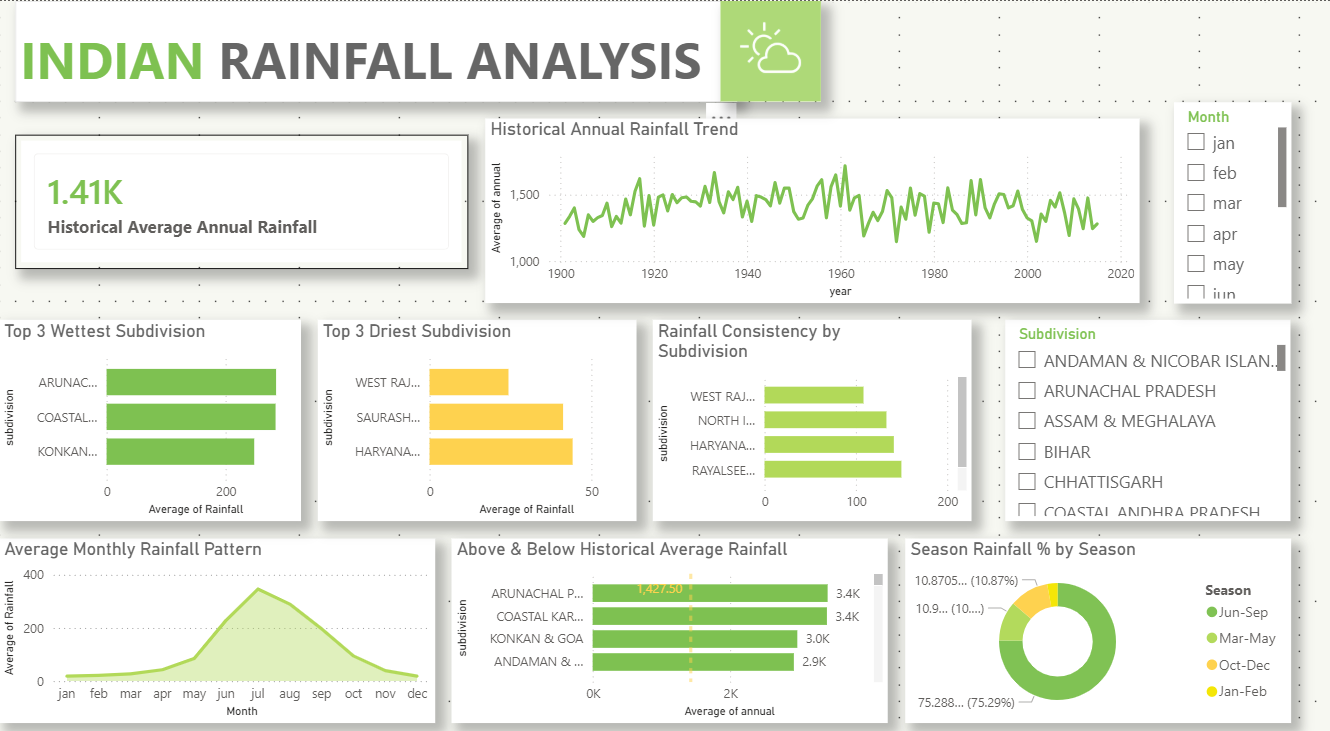

The page's visual inventory and layout, read from the dashboard file:
{"tool":"powerbi","page":{"name":"Page 1","canvas":[1280,720],"ordinal":0},"visuals":[{"type":"lineChart","title":"Average Monthly Rainfall Pattern","fields":{"Category":["Rainfall.Month"],"Y":["Avg(Rainfall.Rainfall)"]},"box":[0,512,416,176],"z":0},{"type":"slicer","fields":{"Values":["Rainfall.subdivision"]},"box":[960,304,272,192],"z":1000},{"type":"cardVisual","fields":{"Data":["Avg(Rainfall.annual)"]},"box":[16,128,432,128],"z":2000},{"type":"textbox","box":[16,0,688,96],"z":3000},{"type":"slicer","fields":{"Values":["Rainfall.Month"]},"box":[1120,96,112,192],"z":4000},{"type":"clusteredBarChart","title":"Top 3 Wettest Subdivision","fields":{"Category":["Rainfall.subdivision"],"Y":["Avg(Rainfall.Rainfall)"]},"box":[0,304,288,192],"z":5000},{"type":"clusteredBarChart","title":"Top 3 Driest Subdivision","fields":{"Category":["Rainfall.subdivision"],"Y":["Avg(Rainfall.Rainfall)"]},"box":[304,304,304,192],"z":6000},{"type":"lineChart","title":"Historical Annual Rainfall Trend","fields":{"Category":["Rainfall.year"],"Y":["Avg(Rainfall.annual)"]},"box":[464,112,624,176],"z":7000},{"type":"clusteredBarChart","title":"Rainfall Consistency by Subdivision","fields":{"Category":["Rainfall.subdivision"],"Y":["Rainfall.Rainfall_Variation"]},"box":[624,304,304,192],"z":8000},{"type":"clusteredBarChart","title":"Above & Below Historical Average Rainfall","fields":{"Category":["Rainfall.subdivision"],"Y":["Avg(Rainfall.annual)"]},"box":[432,512,416,176],"z":9000},{"type":"donutChart","fields":{"Category":["Season.Season"],"Y":["Season.Season Rainfall %"]},"box":[864,512,368,176],"z":10000},{"type":"image","box":[688,0,96,96],"z":11000}]}

Visuals, with their boxes in screenshot pixels (x1, y1, x2, y2), scaled from the page's 1280x720 canvas onto the 1330x731 screenshot:
"Average Monthly Rainfall Pattern" lineChart: (0,520,432,699)
slicer - Rainfall.subdivision: (998,309,1280,504)
cardVisual - Avg(Rainfall.annual): (17,130,466,260)
textbox: (17,0,732,97)
slicer - Rainfall.Month: (1164,97,1280,292)
"Top 3 Wettest Subdivision" clusteredBarChart: (0,309,299,504)
"Top 3 Driest Subdivision" clusteredBarChart: (316,309,632,504)
"Historical Annual Rainfall Trend" lineChart: (482,114,1130,292)
"Rainfall Consistency by Subdivision" clusteredBarChart: (648,309,964,504)
"Above & Below Historical Average Rainfall" clusteredBarChart: (449,520,881,699)
donutChart - Season.Season x Season.Season Rainfall %: (898,520,1280,699)
image: (715,0,815,97)
